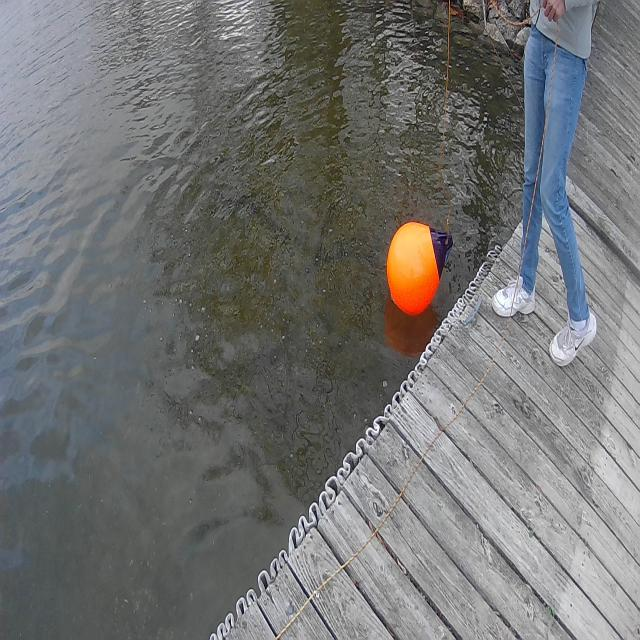Buoy: (383, 203, 458, 326)
